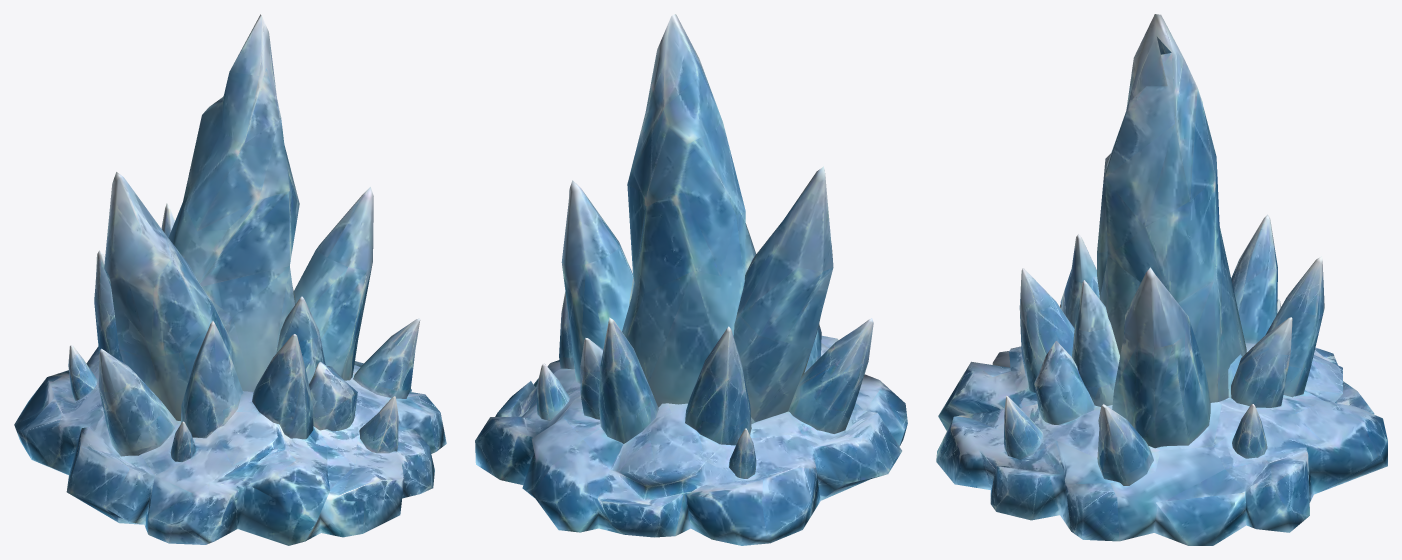
Rendered from ice_spikes_1.glb.
3 renders of one model, left to right at view 1: azimuth 30°, elevation 25°; view 2: azimuth 150°, elevation 25°; view 3: azimuth 270°, elevation 25°, orthographic. The views are drawn at different scales.
Bounding box in the file's own units: 0.875 × 1 × 0.9082.
Materials: 1 (1 with a texture image).
